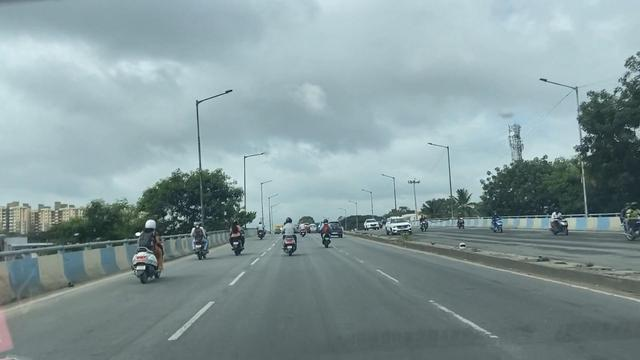LMV: (134, 219, 165, 283), (282, 215, 297, 258), (193, 219, 209, 258), (230, 218, 247, 254), (319, 221, 330, 248), (299, 219, 308, 237), (258, 221, 266, 241)
